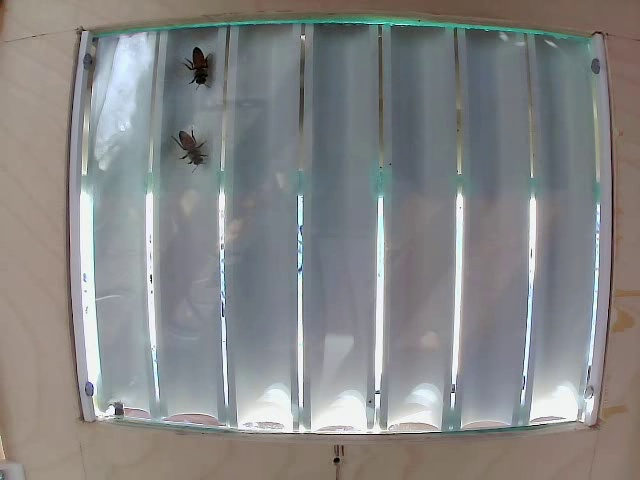bee: (181, 42, 217, 88), (174, 132, 210, 168)
